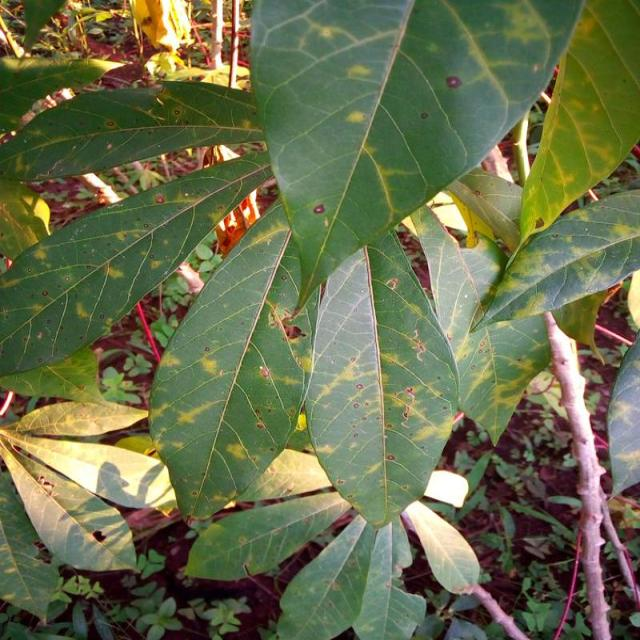cassava leaf: (1, 0, 638, 637), (247, 0, 583, 308), (0, 146, 273, 379), (147, 196, 306, 525), (302, 228, 461, 528), (514, 0, 639, 258)
